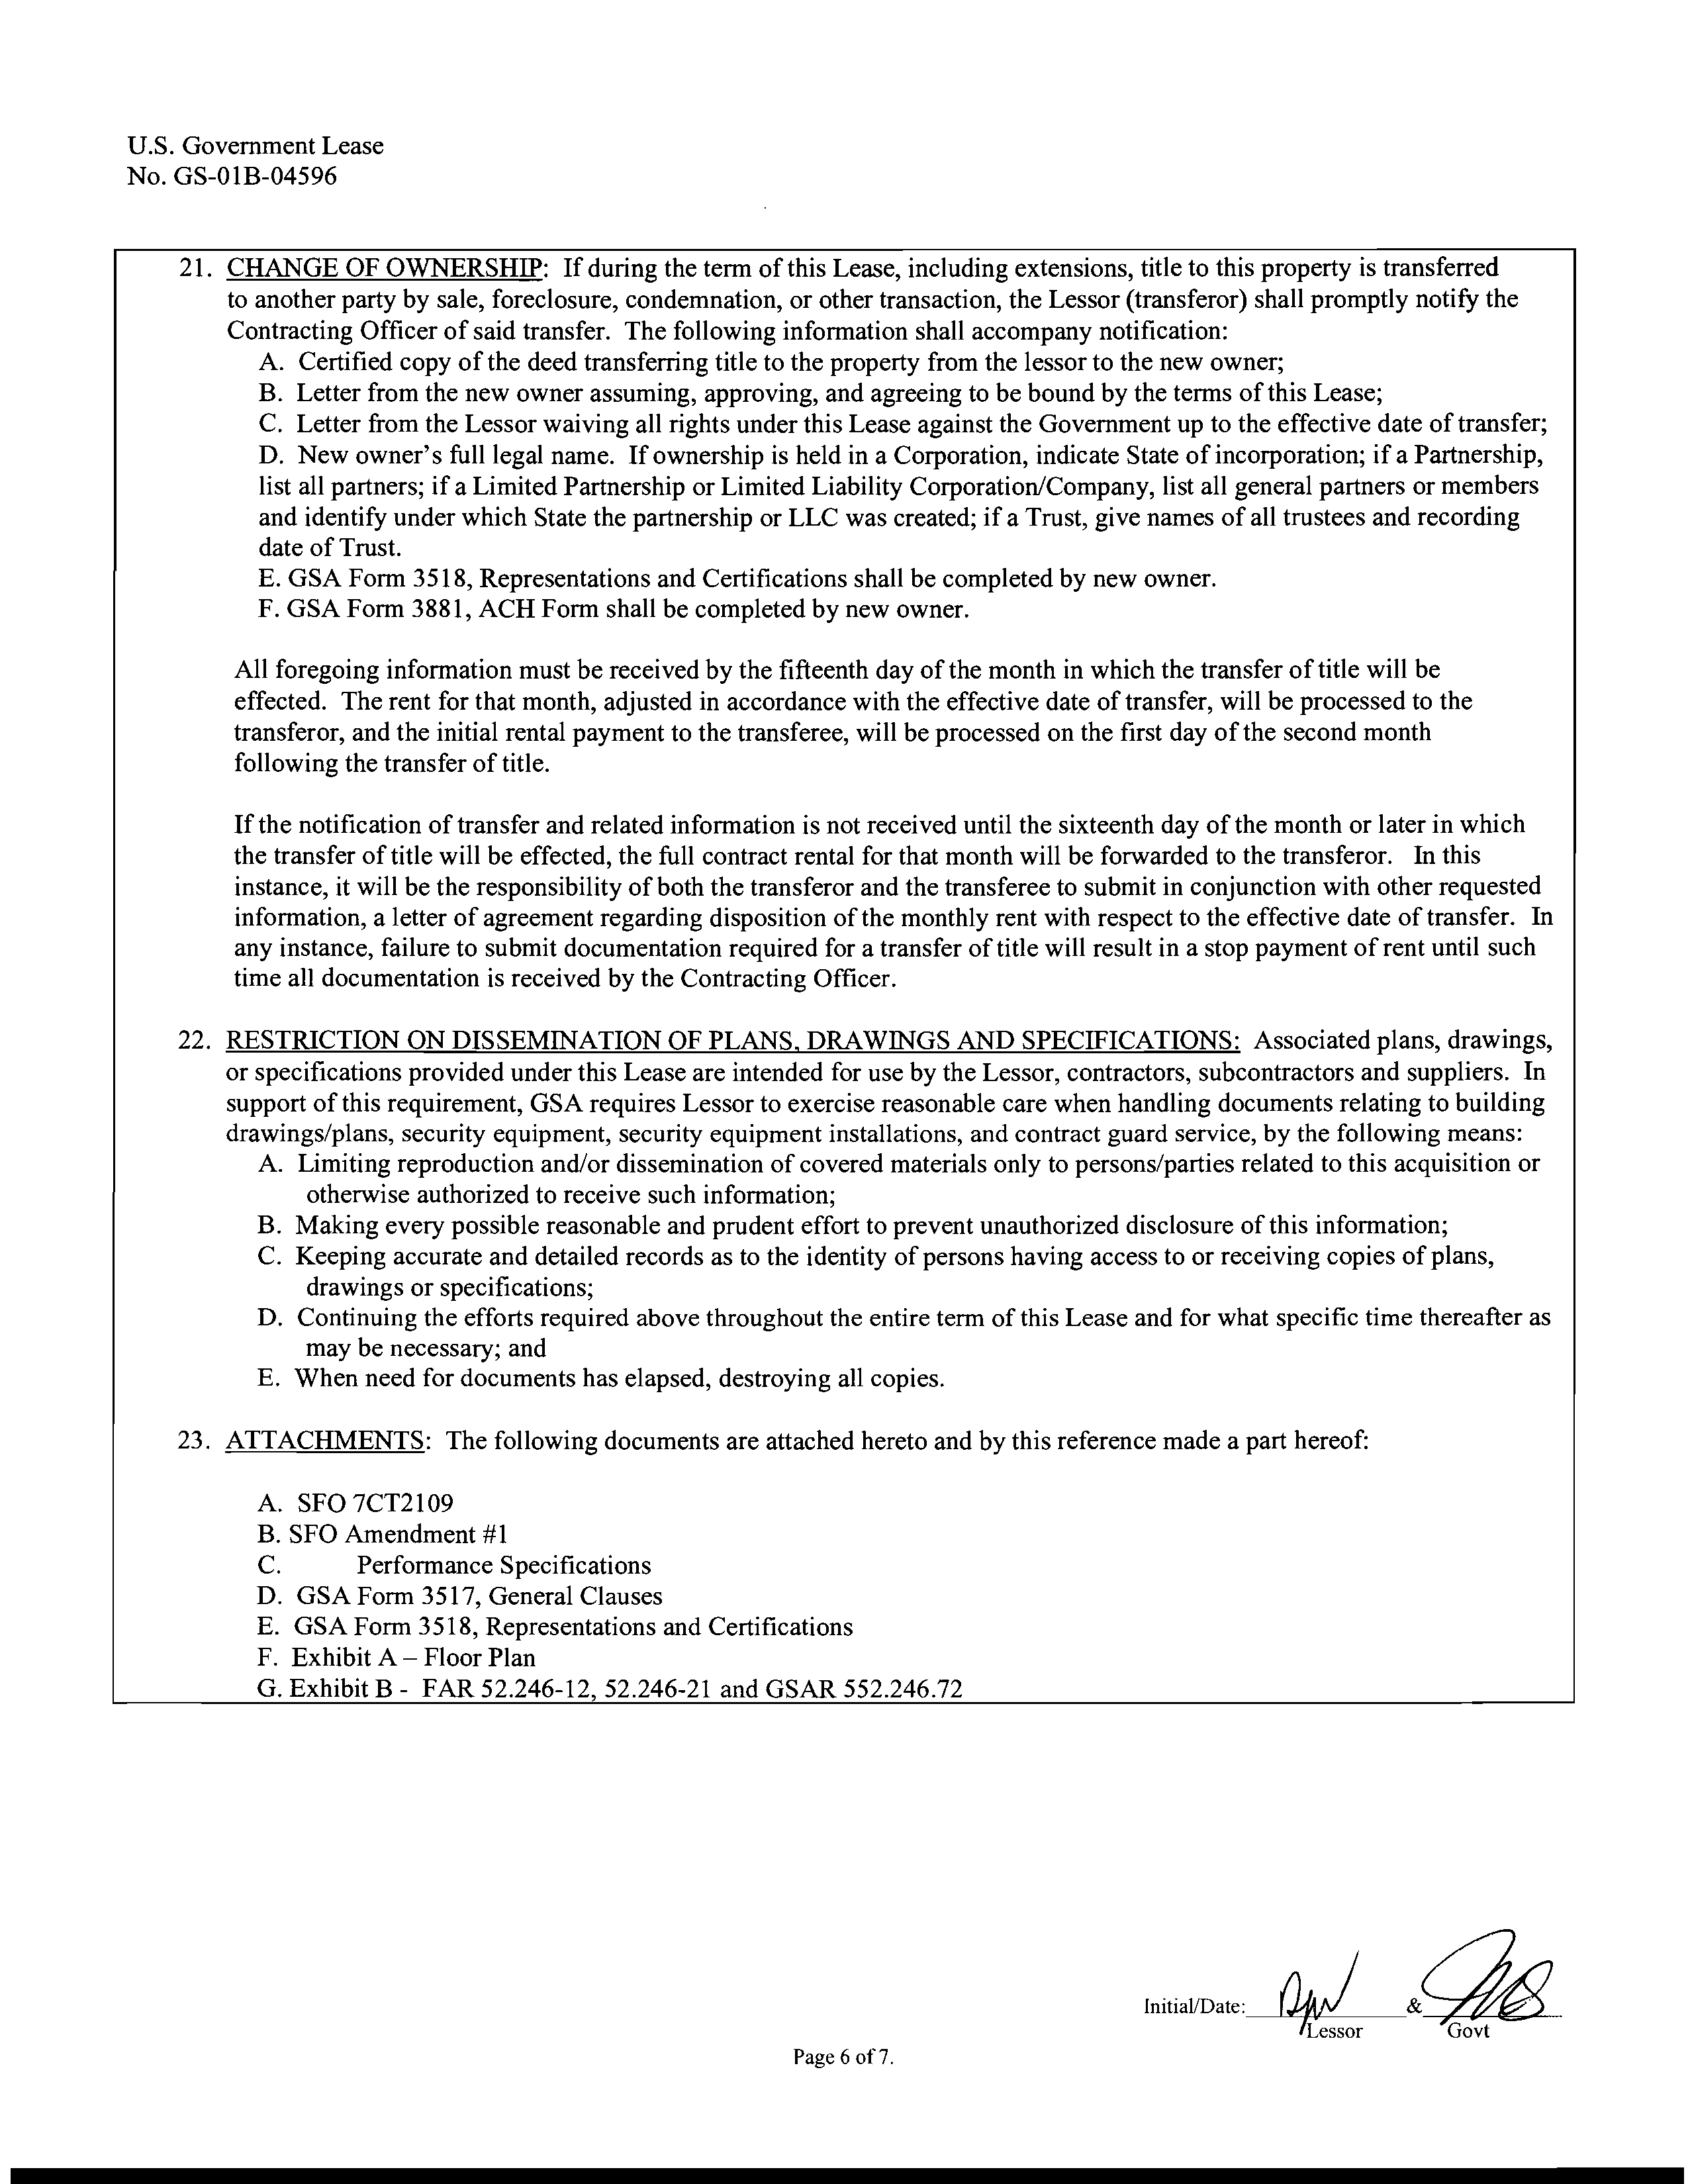handwritten: (1422, 1915, 1557, 2019), (1271, 1954, 1365, 2017)
